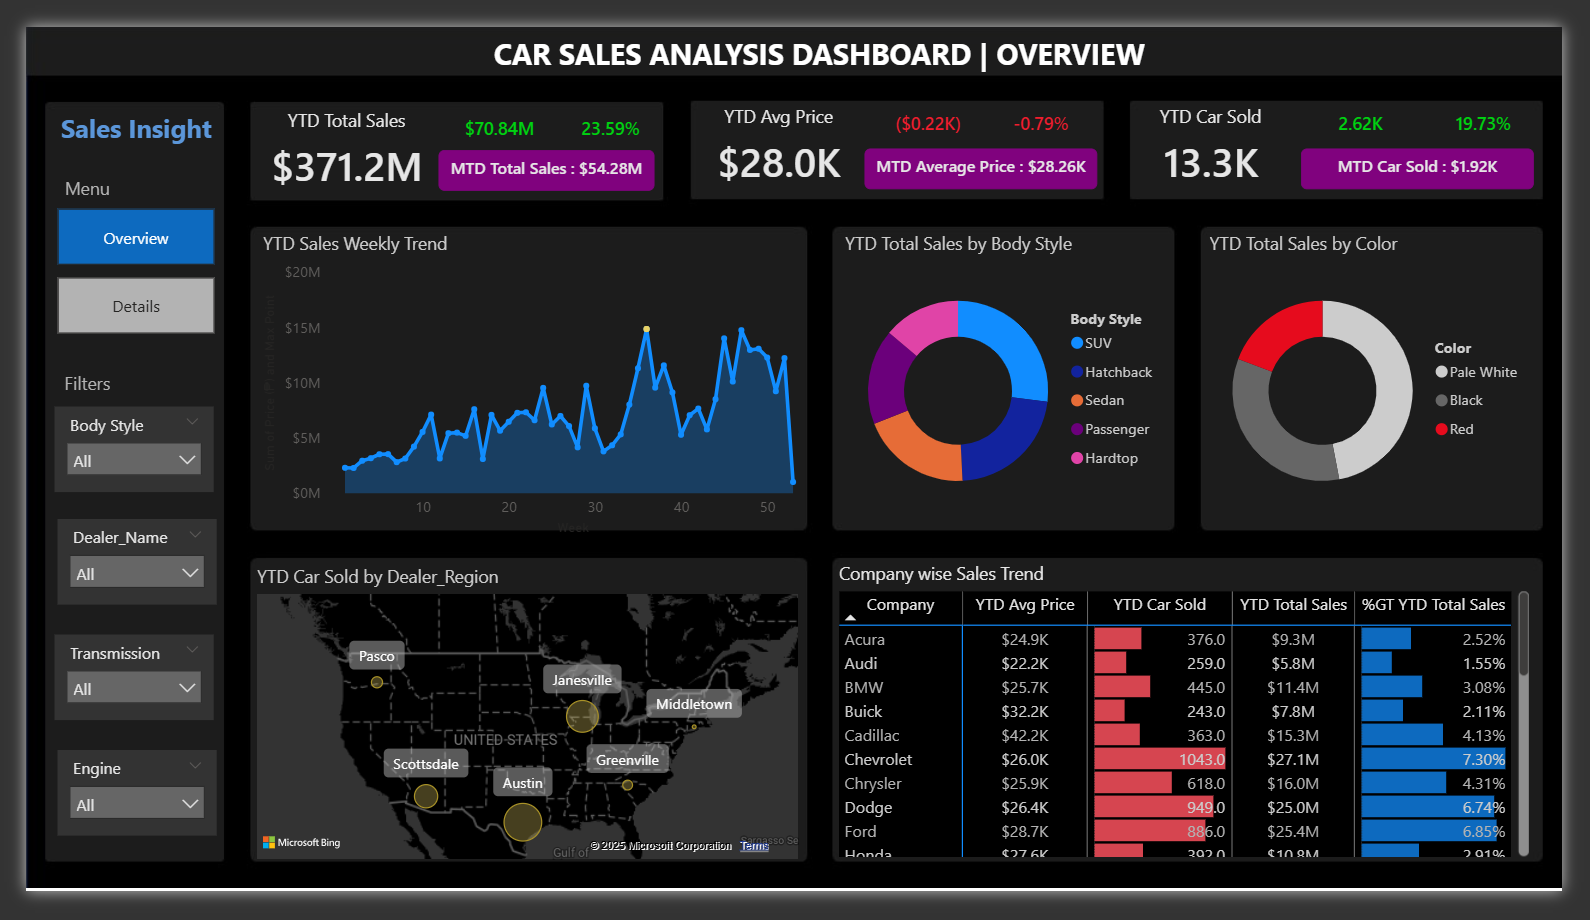

The page's visual inventory and layout, read from the dashboard file:
{"tool":"powerbi","page":{"name":"Overview","canvas":[1280,720],"ordinal":0},"visuals":[{"type":"card","title":"YTD Total Sales","fields":{"Values":["car_data.YTD Total Sales"]},"box":[190,67.1,154.3,75.7],"z":0},{"type":"card","fields":{"Values":["car_data.Sales Difference"]},"box":[345.7,67.1,95.7,37.1],"z":1000},{"type":"card","fields":{"Values":["car_data.YoY Sales Growth"]},"box":[438.6,67.1,95.7,37.1],"z":2000},{"type":"card","fields":{"Values":["car_data.MTD KPI"]},"box":[344.3,102.9,180,34.3],"z":3000},{"type":"card","title":"YTD Avg Price","fields":{"Values":["car_data.YTD Avg Price"]},"box":[550,64.3,154.3,75.7],"z":4000},{"type":"card","fields":{"Values":["car_data.Avg Price Diff"]},"box":[704.3,64.3,95.7,37.1],"z":5000},{"type":"card","fields":{"Values":["car_data.YoY Avg Price Growth"]},"box":[805.7,64.3,78.6,37.1],"z":6000},{"type":"card","fields":{"Values":["car_data.MTD Avg Price KPI"]},"box":[698.6,101.4,194.3,34.3],"z":7000},{"type":"card","title":"YTD Car Sold","fields":{"Values":["car_data.YTD Car Sold"]},"box":[910,64.3,154.3,75.7],"z":8000},{"type":"card","fields":{"Values":["car_data.Cars Sold Diff"]},"box":[1064.3,64.3,95.7,37.1],"z":9000},{"type":"card","fields":{"Values":["car_data.YoY Car Sold Growth"]},"box":[1165.7,64.3,95.7,37.1],"z":10000},{"type":"card","fields":{"Values":["car_data.MTD Car Sold KPI"]},"box":[1062.9,101.4,194.3,34.3],"z":11000},{"type":"areaChart","title":"YTD Sales Weekly Trend","fields":{"Category":["Calendar Table.Week"],"Y":["Sum(car_data.Price (₱))","car_data.Max Point"]},"box":[192.9,170,468.6,257.1],"z":12000},{"type":"donutChart","fields":{"Category":["car_data.Body Style"],"Y":["car_data.YTD Total Sales"]},"box":[677.1,170,275.7,245.7],"z":13000},{"type":"donutChart","fields":{"Y":["car_data.YTD Total Sales"],"Category":["car_data.Color"]},"box":[981.4,170,275.7,245.7],"z":14000},{"type":"map","fields":{"Category":["car_data.Dealer_Region"],"Size":["car_data.YTD Car Sold"]},"box":[187.1,447.1,461.4,251.4],"z":15000},{"type":"pivotTable","title":"Company wise Sales Trend","fields":{"Rows":["car_data.Company"],"Values":["car_data.YTD Avg Price","car_data.YTD Car Sold","car_data.YTD Total Sales1","car_data.YTD Total Sales"]},"box":[672.5,445,585,251.2],"z":16000},{"type":"textbox","box":[367.1,0,587.1,51.4],"z":17000},{"type":"slicer","fields":{"Values":["car_data.Body Style"]},"box":[24.3,315.7,132.9,71.4],"z":18000},{"type":"slicer","fields":{"Values":["car_data.Dealer_Name"]},"box":[25.7,410,132.9,71.4],"z":19000},{"type":"slicer","fields":{"Values":["car_data.Transmission"]},"box":[24.3,505.7,132.9,71.4],"z":20000},{"type":"slicer","fields":{"Values":["car_data.Engine"]},"box":[25.7,602.9,132.9,71.4],"z":21000},{"type":"textbox","box":[17.1,281.4,67.1,32.9],"z":22000},{"type":"textbox","box":[12.9,64.3,158.6,42.9],"z":23000},{"type":"textbox","box":[17.1,118.6,67.1,32.9],"z":24000},{"type":"pageNavigator","box":[25.7,151.4,131.4,105.7],"z":25000}]}

Visuals, with their boxes in screenshot pixels (x1, y1, x2, y2), scaled from the page's 1280x720 canvas onto the 1590x920 screenshot:
"YTD Total Sales" card: (236, 86, 428, 182)
card - car_data.Sales Difference: (429, 86, 548, 133)
card - car_data.YoY Sales Growth: (545, 86, 664, 133)
card - car_data.MTD KPI: (428, 131, 651, 175)
"YTD Avg Price" card: (683, 82, 875, 179)
card - car_data.Avg Price Diff: (875, 82, 994, 130)
card - car_data.YoY Avg Price Growth: (1001, 82, 1098, 130)
card - car_data.MTD Avg Price KPI: (868, 130, 1109, 173)
"YTD Car Sold" card: (1130, 82, 1322, 179)
card - car_data.Cars Sold Diff: (1322, 82, 1441, 130)
card - car_data.YoY Car Sold Growth: (1448, 82, 1567, 130)
card - car_data.MTD Car Sold KPI: (1320, 130, 1562, 173)
"YTD Sales Weekly Trend" areaChart: (240, 217, 822, 546)
donutChart - car_data.Body Style x car_data.YTD Total Sales: (841, 217, 1184, 531)
donutChart - car_data.YTD Total Sales x car_data.Color: (1219, 217, 1562, 531)
map - car_data.Dealer_Region x car_data.YTD Car Sold: (232, 571, 806, 893)
"Company wise Sales Trend" pivotTable: (835, 569, 1562, 890)
textbox: (456, 0, 1185, 66)
slicer - car_data.Body Style: (30, 403, 195, 495)
slicer - car_data.Dealer_Name: (32, 524, 197, 615)
slicer - car_data.Transmission: (30, 646, 195, 737)
slicer - car_data.Engine: (32, 770, 197, 862)
textbox: (21, 360, 105, 402)
textbox: (16, 82, 213, 137)
textbox: (21, 152, 105, 194)
pageNavigator: (32, 193, 195, 329)
